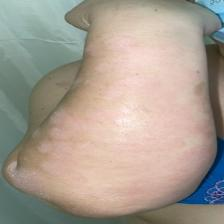Psoriasis vulgaris: (47, 112, 194, 195), (91, 34, 189, 92), (13, 167, 40, 188)
